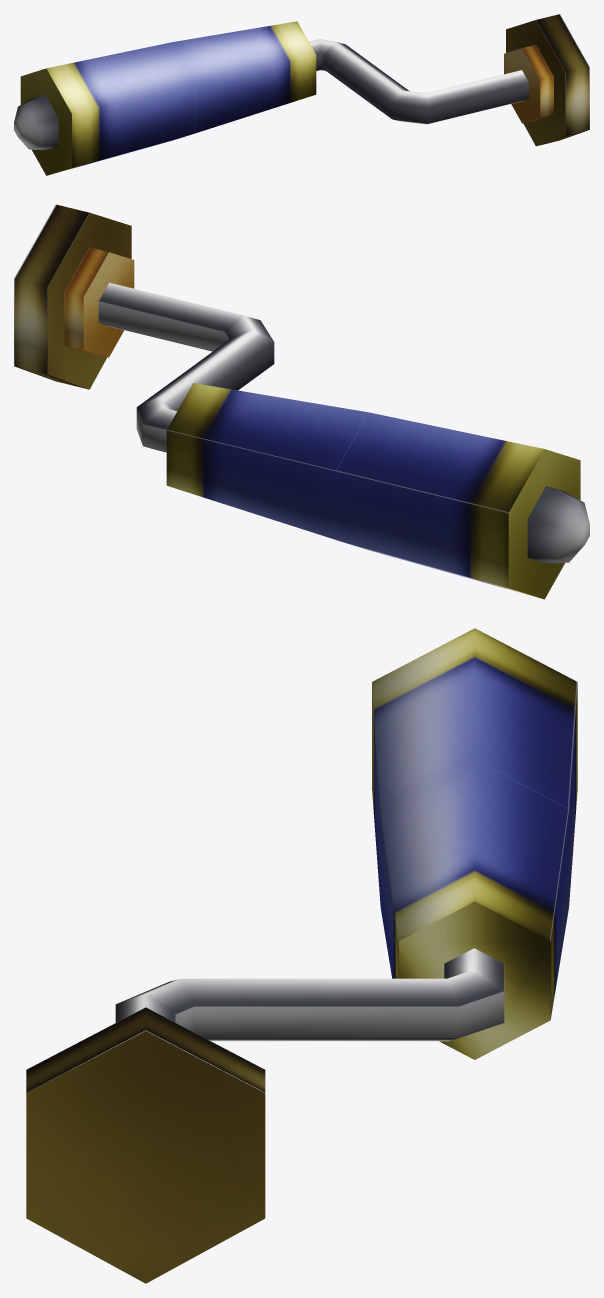
Rendered from sfx_a_SWAhandle01.glb.
3 renders of one model, top to bottom at view 1: azimuth 30°, elevation 25°; view 2: azimuth 150°, elevation 25°; view 3: azimuth 270°, elevation 25°, orthographic. The views are drawn at different scales.
Visible parts, largest first — view 1: sfx_a_SWAhandle01_obj0; view 2: sfx_a_SWAhandle01_obj0; view 3: sfx_a_SWAhandle01_obj0.
Boxes of the visible parts, box(x1,y1,x2,y2) form: sfx_a_SWAhandle01_obj0: box(14, 14, 589, 175); sfx_a_SWAhandle01_obj0: box(14, 204, 589, 599); sfx_a_SWAhandle01_obj0: box(26, 628, 577, 1283).
Size of the model in its own units: 1.04 by 0.2722 by 0.5376.
Materials: 1 (1 with a texture image).
